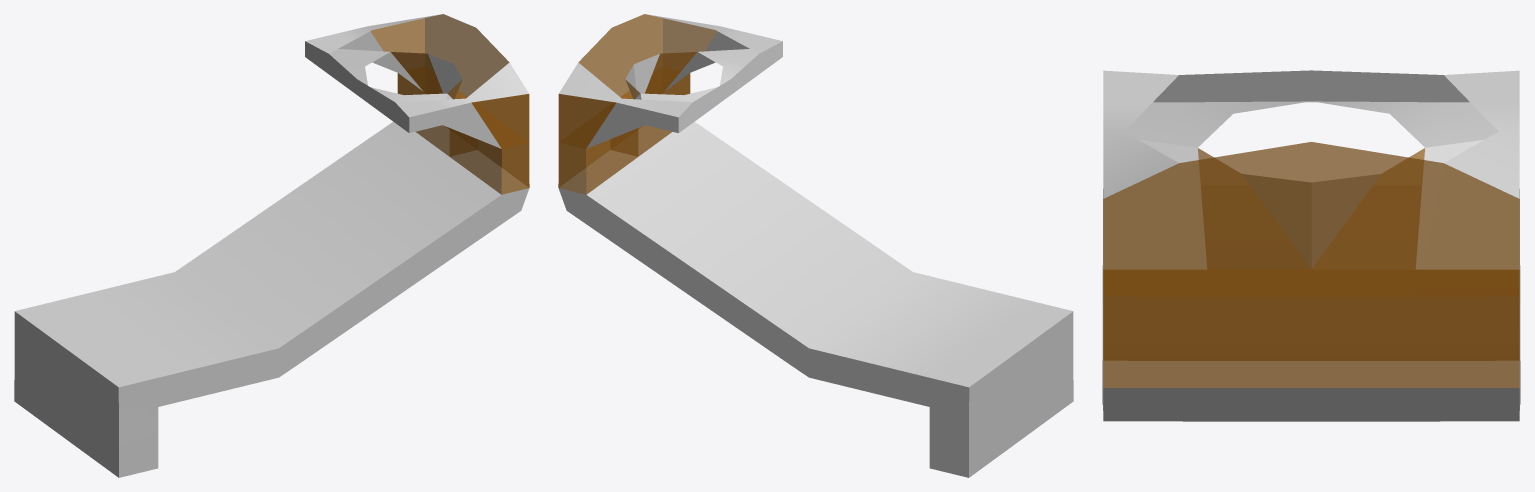
Rendered from RPZTransparent2-lower1.fbx.
The picture shows the model from 3 angles, left to right: view 1: azimuth 30°, elevation 25°; view 2: azimuth 150°, elevation 25°; view 3: azimuth 270°, elevation 25°; orthographic projection. The views are drawn at different scales.
Parts seen in each view (by area): view 1: ReliefHousing.016; view 2: ReliefHousing.016; view 3: ReliefHousing.016.
Part boxes in pixels (x1=…): ReliefHousing.016: x1=14, y1=14, x2=529, y2=477; ReliefHousing.016: x1=558, y1=14, x2=1073, y2=477; ReliefHousing.016: x1=1102, y1=70, x2=1520, y2=421.
Bounding box in the file's own units: 5.69 × 4.13 × 2.51.
